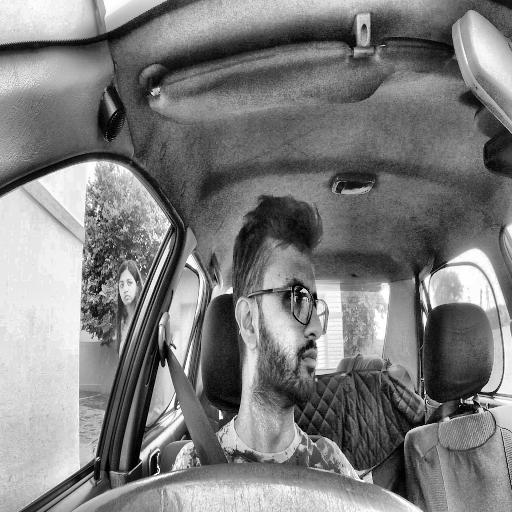awake: (232, 193, 330, 413)
